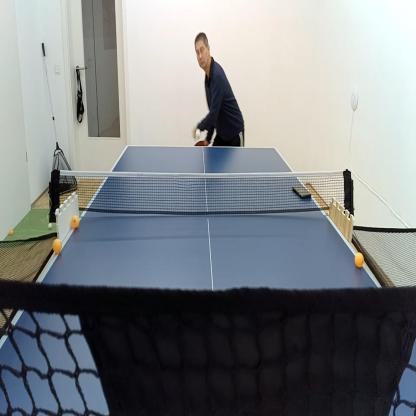Ball: (354, 250, 364, 270), (52, 236, 62, 255), (70, 213, 80, 230), (194, 127, 202, 141), (9, 227, 13, 236), (48, 222, 52, 231)
